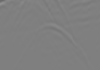hyperbola: (24, 21, 87, 60)
